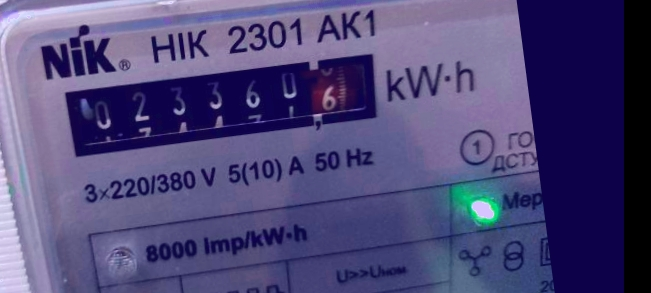0: (89, 95, 114, 131), (278, 67, 298, 100)
2: (126, 87, 153, 124)
3: (164, 82, 189, 117), (202, 77, 225, 110)
6: (238, 75, 262, 109), (315, 80, 339, 111)
screen: (44, 32, 395, 174)
